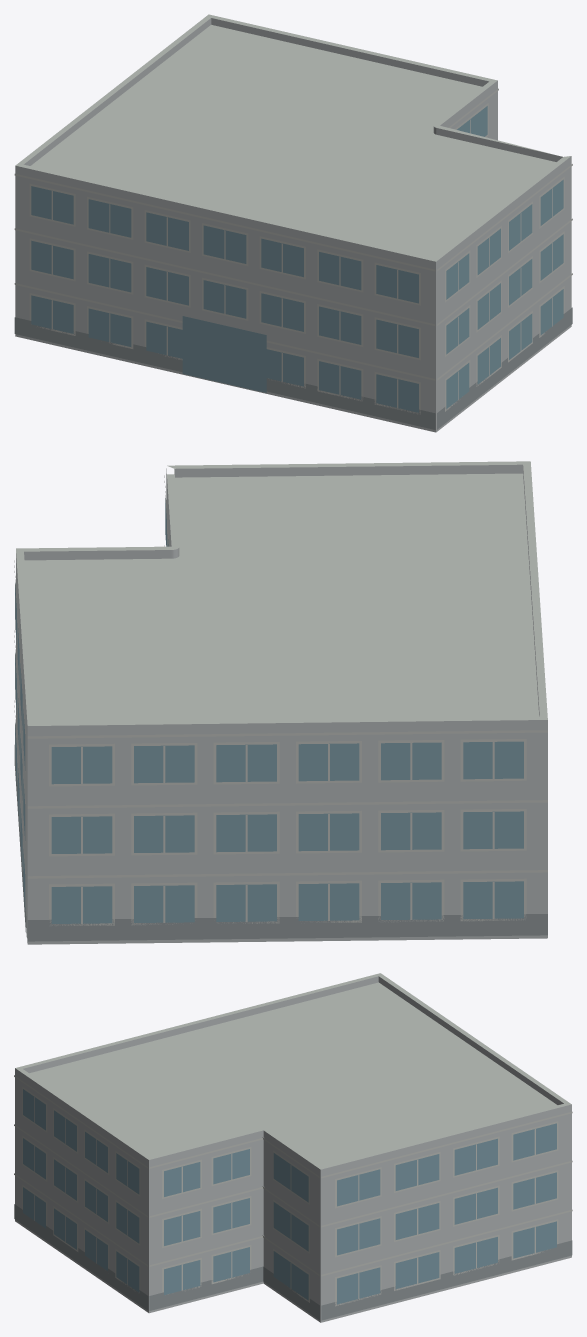
Rendered from public-440fbf5c-3be9-43e1-9eb2-1ada827fb290.glb.
3 views of the same model, one above another, from view 1: azimuth 30°, elevation 25°; view 2: azimuth 150°, elevation 25°; view 3: azimuth 270°, elevation 25° (orthographic). The views are drawn at different scales.
Parts seen in each view (by area): view 1: public-440fbf5c-3be9-43e1-9eb2-1ada827fb290; view 2: public-440fbf5c-3be9-43e1-9eb2-1ada827fb290; view 3: public-440fbf5c-3be9-43e1-9eb2-1ada827fb290.
Part boxes in pixels (left/top/right/bottom): public-440fbf5c-3be9-43e1-9eb2-1ada827fb290: left=14, top=14, right=572, bottom=432; public-440fbf5c-3be9-43e1-9eb2-1ada827fb290: left=14, top=461, right=547, bottom=944; public-440fbf5c-3be9-43e1-9eb2-1ada827fb290: left=14, top=973, right=572, bottom=1322.
Bounding box in the file's own units: 25.3 × 9.15 × 30.25.
